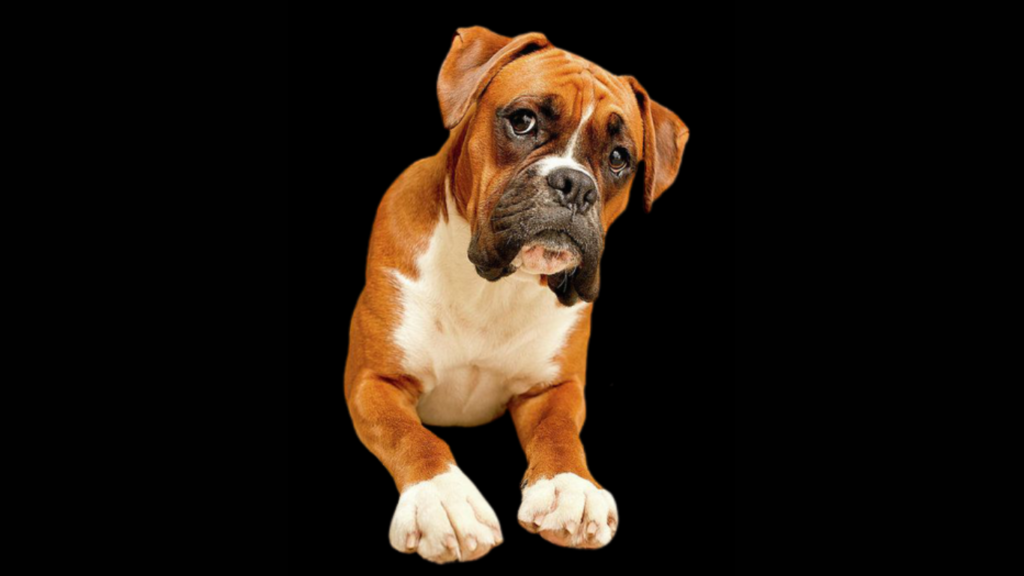Dog: (340, 7, 705, 564)
